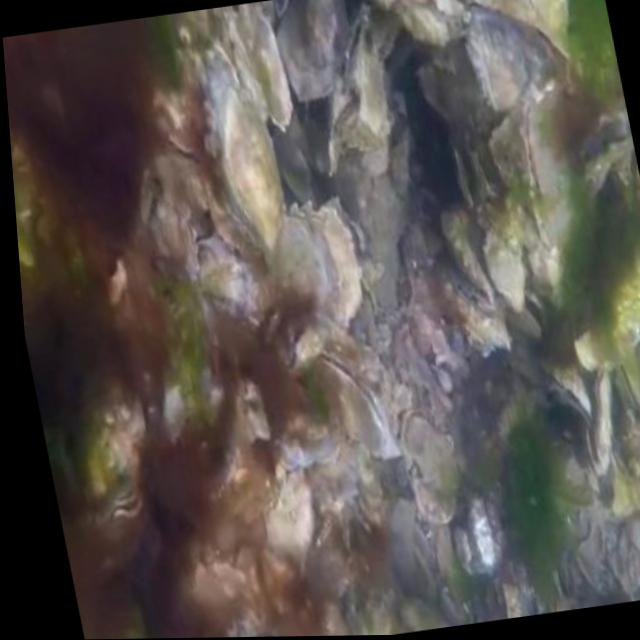Oyster-Closed: (58, 377, 148, 529), (289, 201, 363, 325), (394, 403, 460, 533), (313, 349, 386, 457), (272, 215, 330, 314), (148, 197, 200, 281), (537, 357, 594, 424), (343, 8, 371, 88), (594, 370, 613, 464), (614, 346, 640, 408), (469, 148, 493, 208), (315, 514, 337, 545), (431, 0, 462, 19)
Oyster-Indeterminate: (216, 86, 284, 254), (435, 247, 512, 347), (277, 0, 347, 101), (466, 6, 528, 107), (438, 201, 494, 301), (576, 305, 640, 368), (484, 225, 524, 310), (307, 0, 336, 66), (375, 0, 399, 8)
Oyster-Open: (521, 75, 576, 246), (582, 113, 632, 191), (507, 288, 548, 342), (282, 321, 323, 373), (160, 134, 196, 166)
